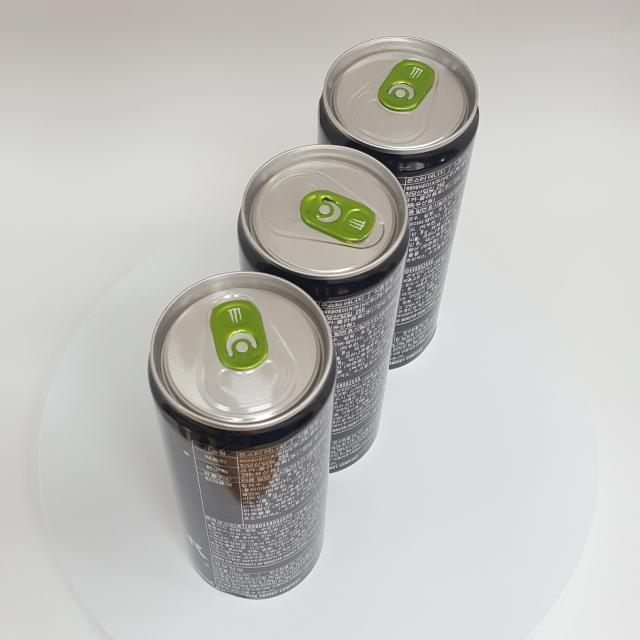--------355ML: (147, 270, 337, 600), (237, 143, 411, 474), (316, 36, 479, 370)
